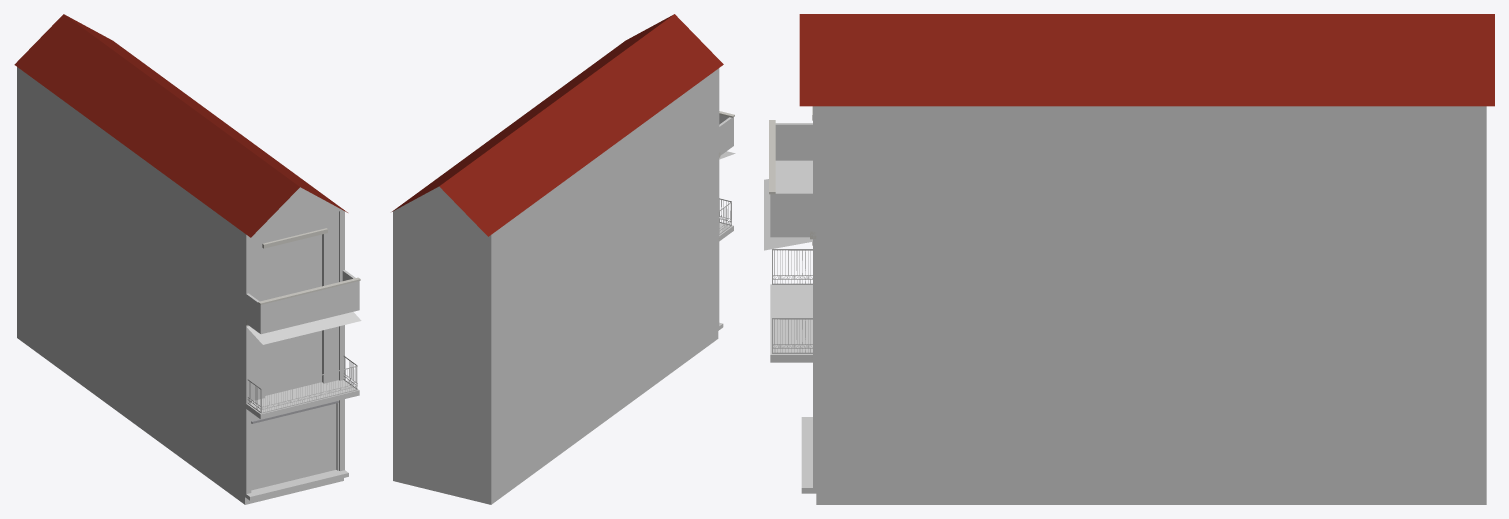
3 views of the same model, side by side, from view 1: azimuth 30°, elevation 25°; view 2: azimuth 150°, elevation 25°; view 3: azimuth 270°, elevation 25° (orthographic). The views are drawn at different scales.
Parts seen in each view (by area): view 1: TH_D16_C_06_LOD0; view 2: TH_D16_C_06_LOD0; view 3: TH_D16_C_06_LOD0.
Boxes of the visible parts, bbox=[...] form: TH_D16_C_06_LOD0: bbox=[14, 14, 361, 504]; TH_D16_C_06_LOD0: bbox=[392, 14, 735, 504]; TH_D16_C_06_LOD0: bbox=[764, 14, 1494, 504].
Size of what is drawn, in the model's own units: 4.06 by 12 by 17.45.
